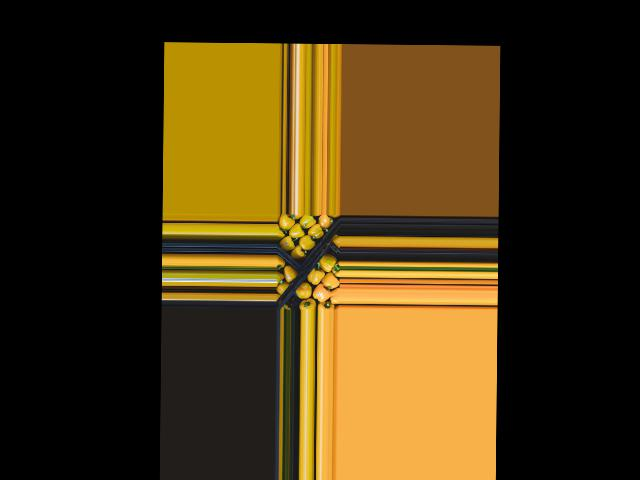bell_pepper: (276, 214, 292, 233)
